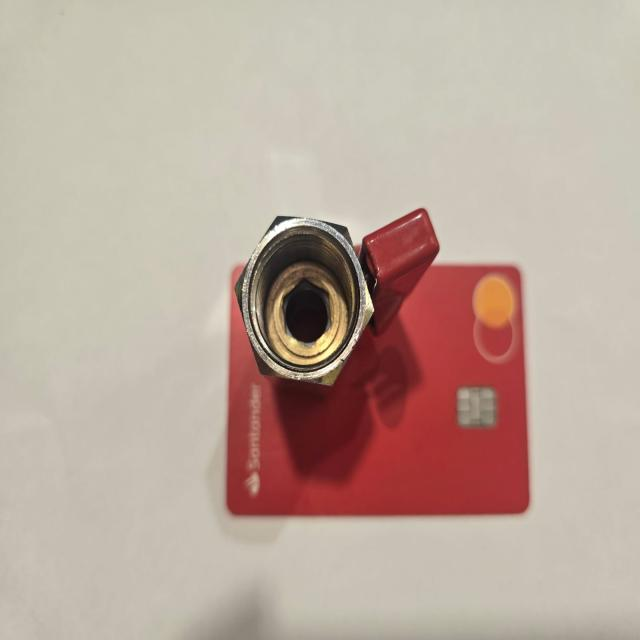cartao: (227, 261, 529, 515)
rosca_interna: (234, 201, 440, 413)
